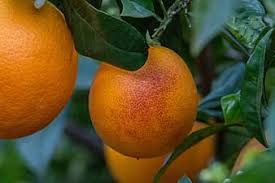orange: (90, 40, 199, 157)
